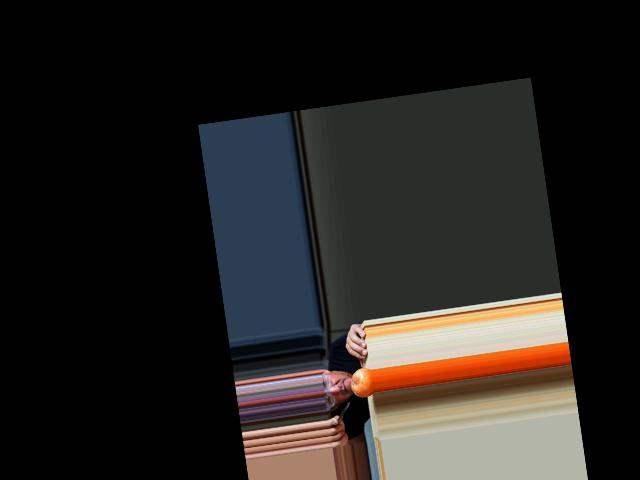onion: (348, 366, 375, 399)
